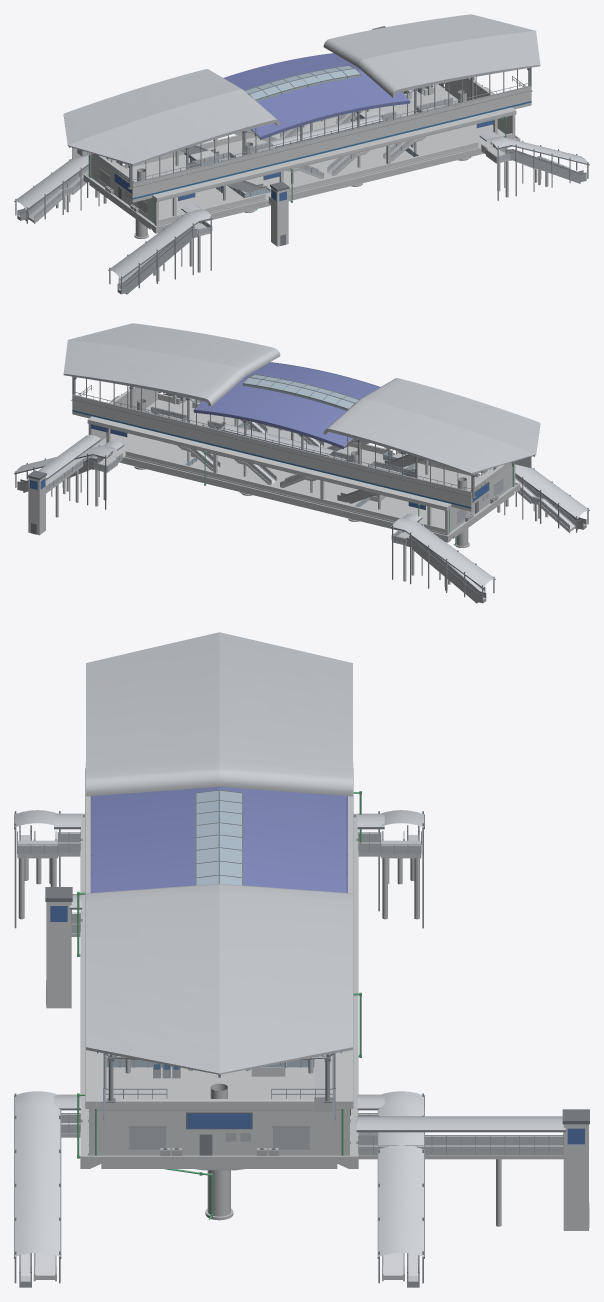
3 views of the same model, one above another, from view 1: azimuth 30°, elevation 25°; view 2: azimuth 150°, elevation 25°; view 3: azimuth 270°, elevation 25° (orthographic). The views are drawn at different scales.
Visible parts, largest first — view 1: BL04, BL04_conc, BL04_access; view 2: BL04, BL04_conc, BL04_access; view 3: BL04, BL04_access, BL04_conc.
Boxes of the visible parts, left/top/right/bottom form: BL04: left=63, top=14, right=540, bottom=202; BL04_conc: left=83, top=78, right=520, bottom=238; BL04_access: left=14, top=26, right=589, bottom=294; BL04: left=63, top=323, right=540, bottom=511; BL04_conc: left=87, top=387, right=520, bottom=547; BL04_access: left=14, top=391, right=589, bottom=603; BL04: left=86, top=632, right=352, bottom=1125; BL04_access: left=14, top=791, right=589, bottom=1287; BL04_conc: left=80, top=763, right=358, bottom=1220.
Size of the model in its own units: 108 by 28 by 59.58.
